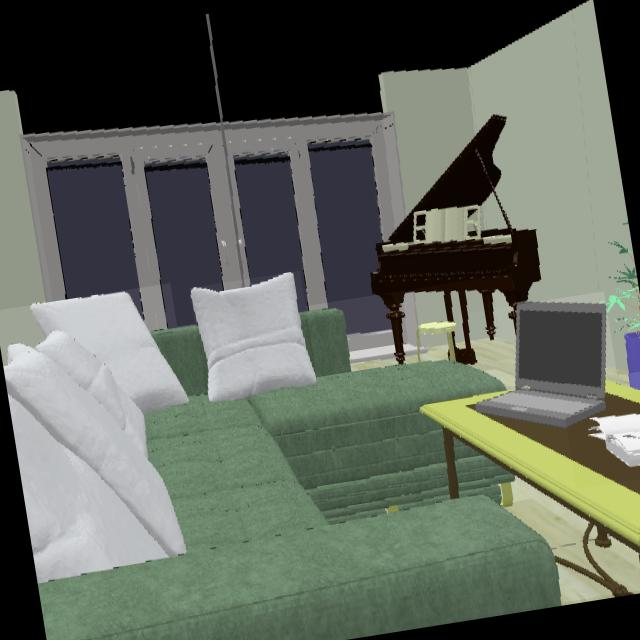book: (568, 398, 640, 476)
laptop: (475, 302, 608, 435)
pillow: (3, 292, 189, 584), (192, 273, 317, 402)
sofa: (38, 308, 563, 640)
table: (421, 388, 640, 558)
